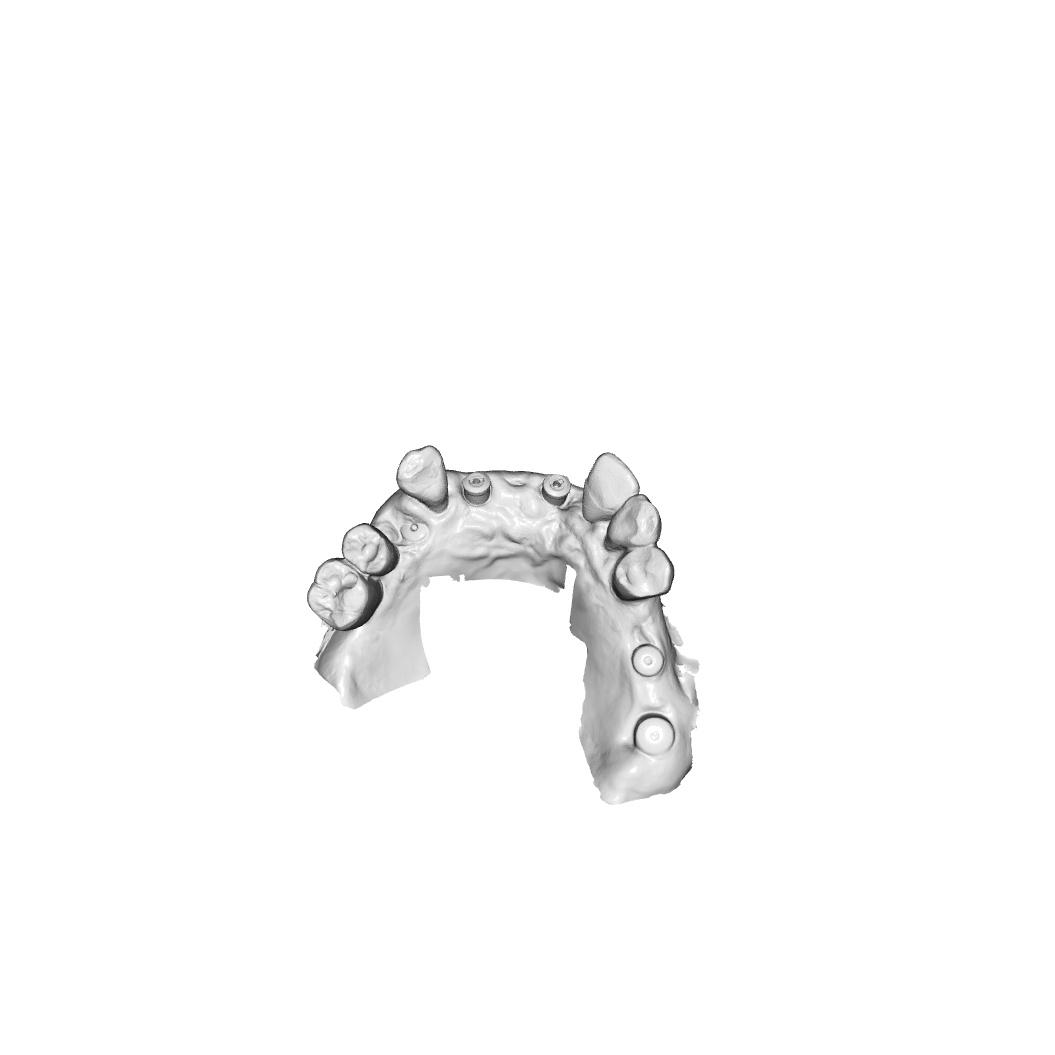canine: (396, 444, 449, 513), (603, 493, 663, 552)
implant: (633, 713, 676, 759), (630, 643, 665, 677), (399, 518, 429, 543)
implant_minus: (461, 470, 496, 507), (541, 472, 572, 508)
incisor: (581, 451, 641, 523)
molar: (306, 557, 384, 632)
premolar: (609, 545, 675, 602), (340, 522, 399, 578)
